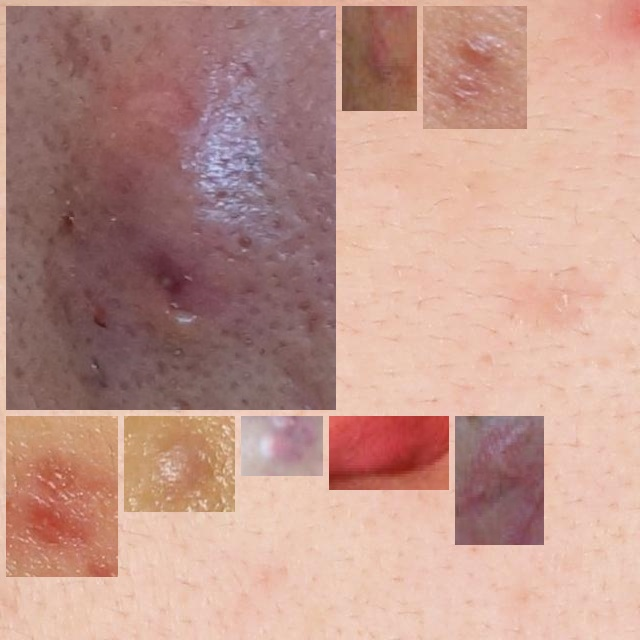nodule: (14, 14, 328, 402), (14, 424, 110, 569), (431, 14, 519, 121), (463, 424, 536, 537), (132, 424, 227, 504), (337, 424, 441, 482), (350, 14, 409, 103), (249, 424, 315, 468)
